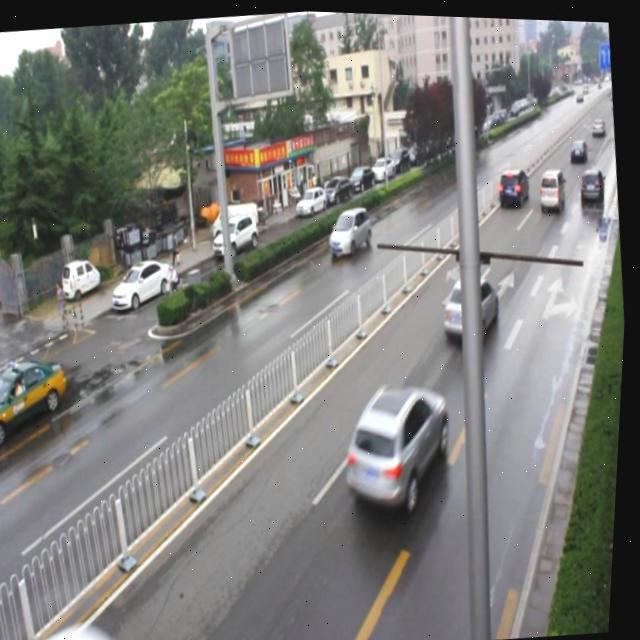car: (340, 372, 460, 517), (441, 265, 503, 341), (3, 604, 132, 640), (327, 200, 373, 252), (577, 161, 606, 201)
truck: (536, 163, 568, 206), (497, 164, 532, 200)
